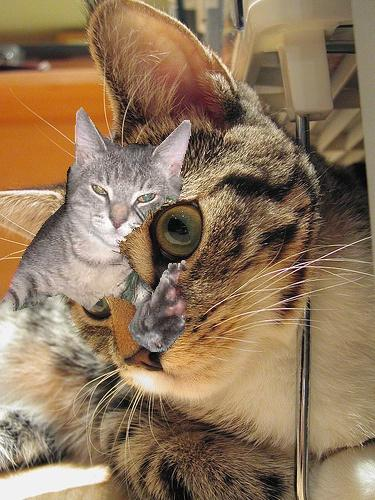tampered: (6, 108, 191, 352)
